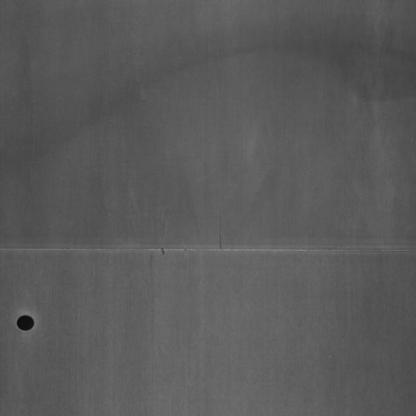punching_hole: (14, 306, 41, 335)
welding_line: (4, 239, 416, 263)
